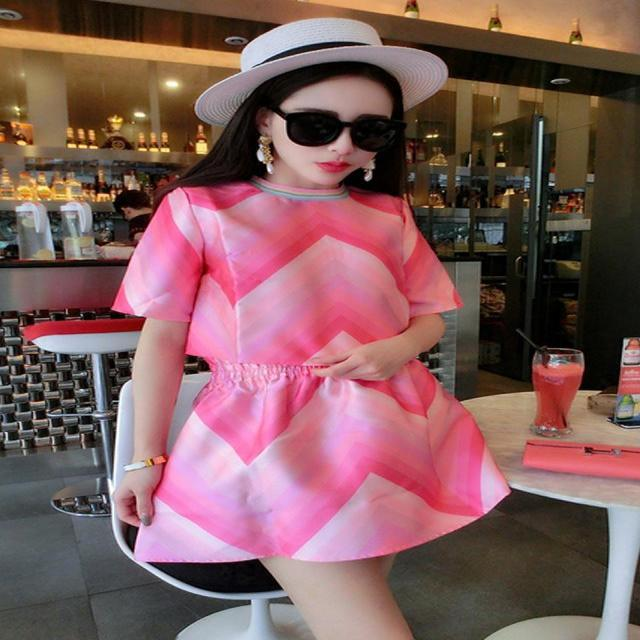short sleeve top: (113, 173, 461, 365)
skirt: (136, 342, 510, 561)
